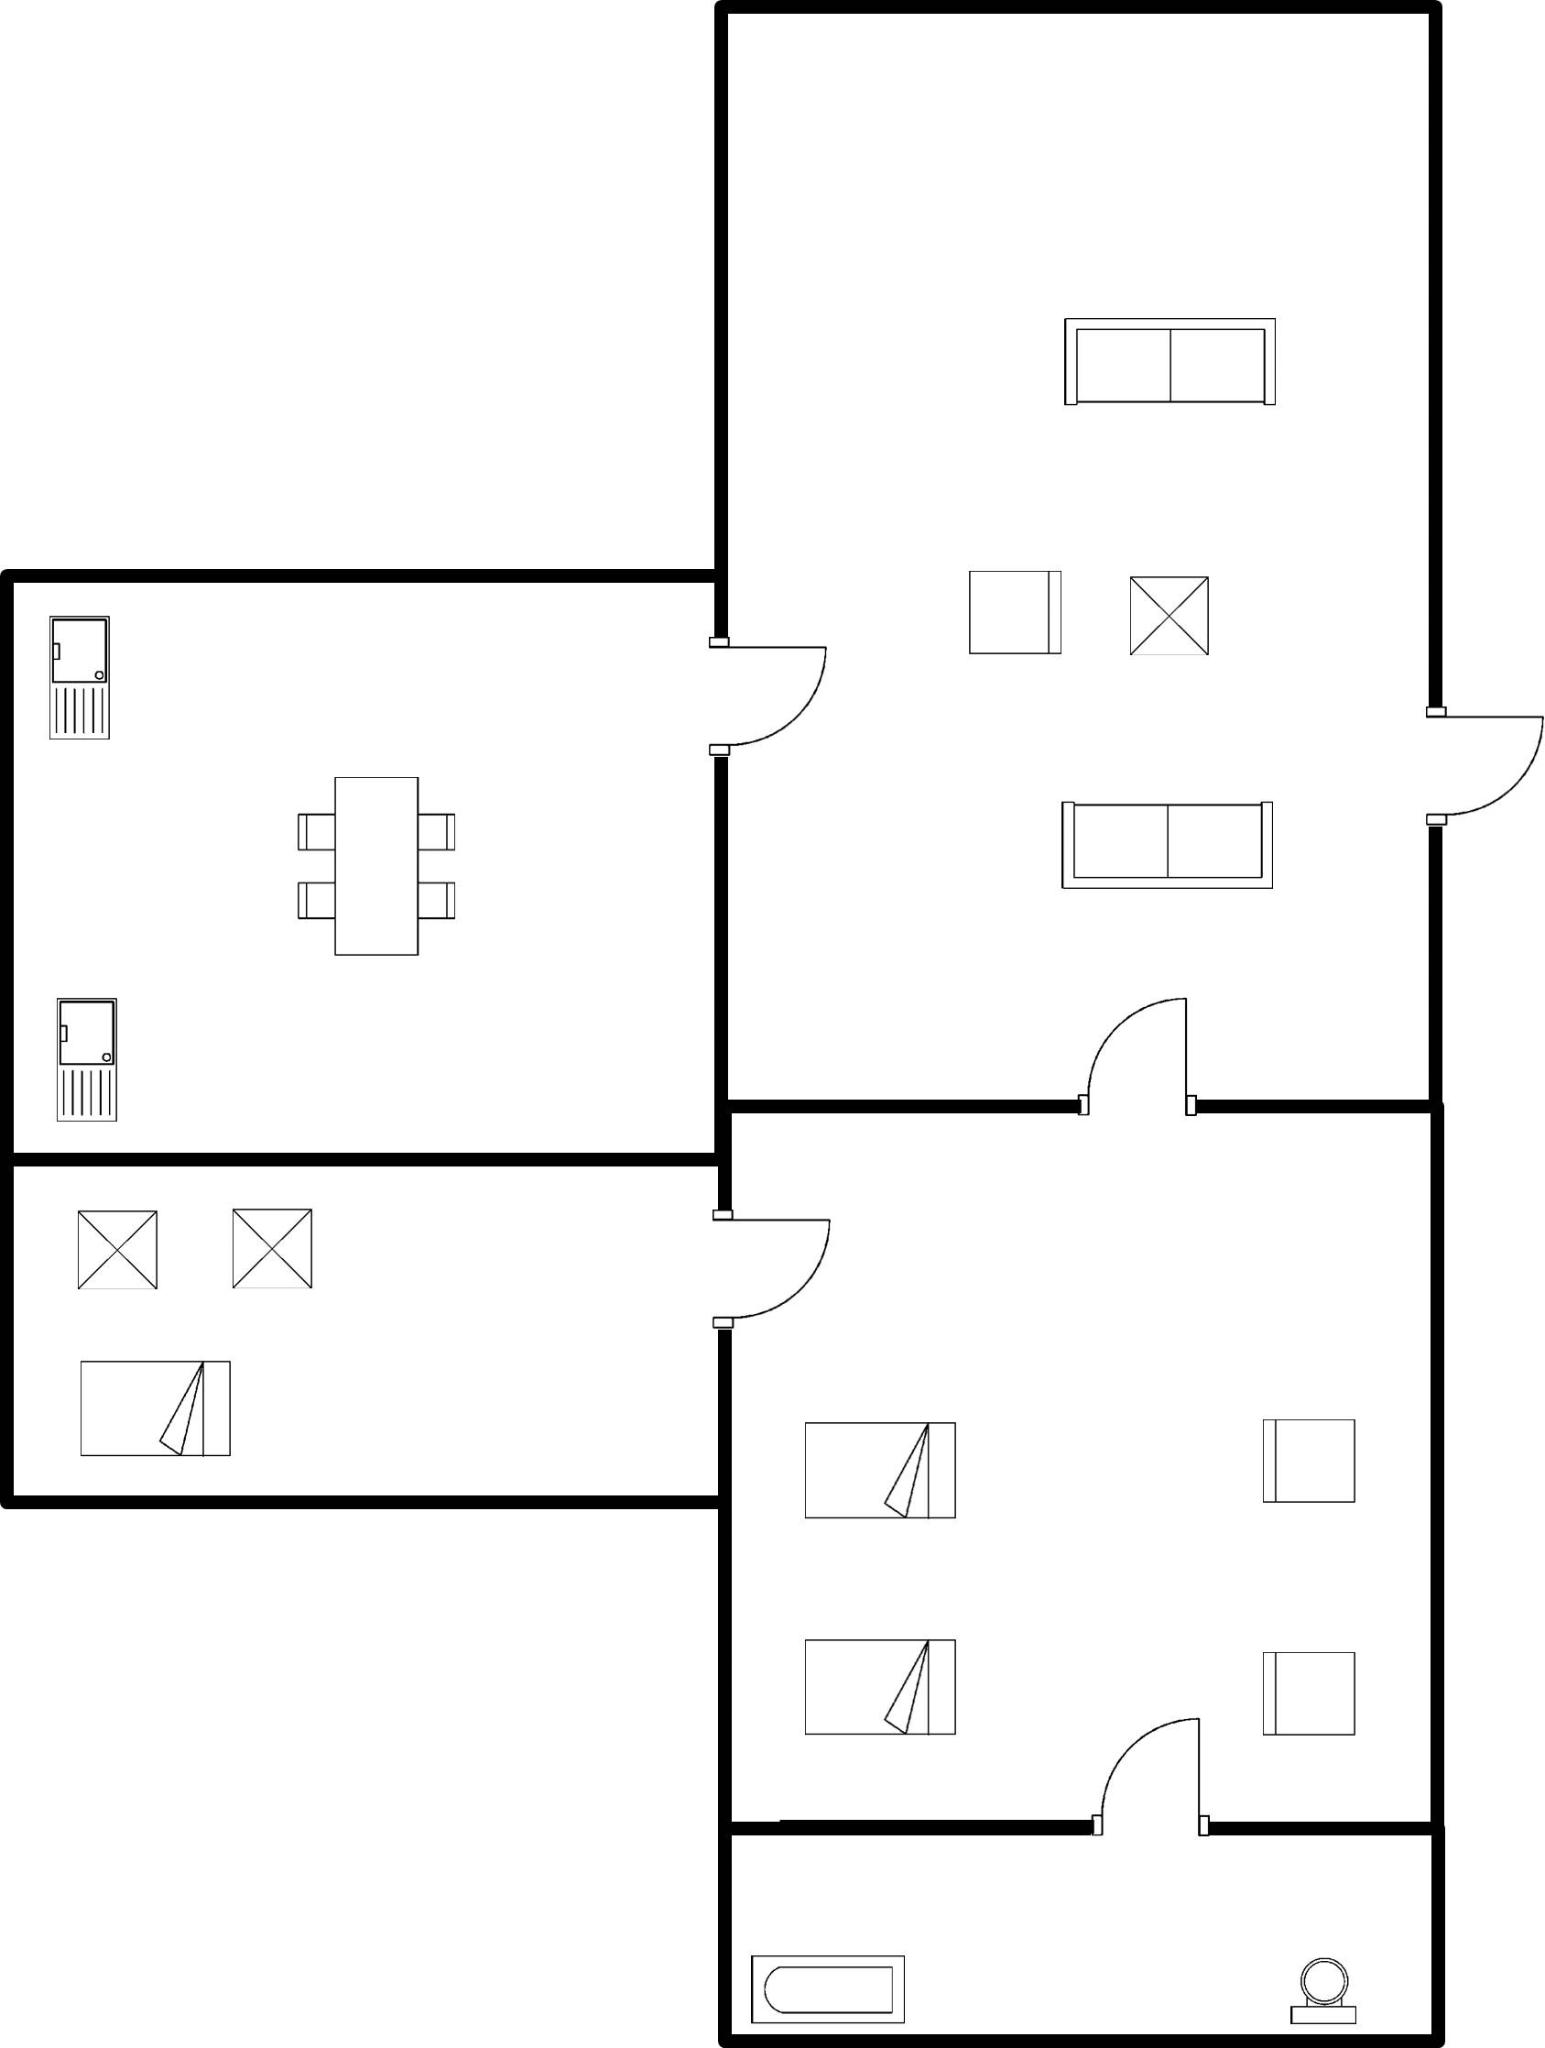bed: (62, 1339, 247, 1469), (789, 1623, 974, 1749), (784, 1405, 969, 1530)
dining_table: (282, 759, 466, 979)
sink: (39, 602, 127, 758), (47, 985, 128, 1139)
sofa: (1045, 302, 1295, 433), (1045, 789, 1284, 904)
toilet: (1266, 1941, 1373, 2032)
tub: (740, 1933, 920, 2042)
